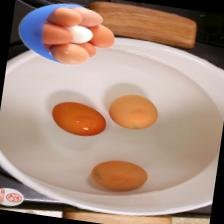egg: (47, 99, 110, 140), (104, 90, 162, 134), (87, 156, 149, 195), (48, 40, 90, 68), (34, 22, 75, 48), (64, 5, 104, 30), (44, 5, 83, 30), (86, 22, 116, 50)
